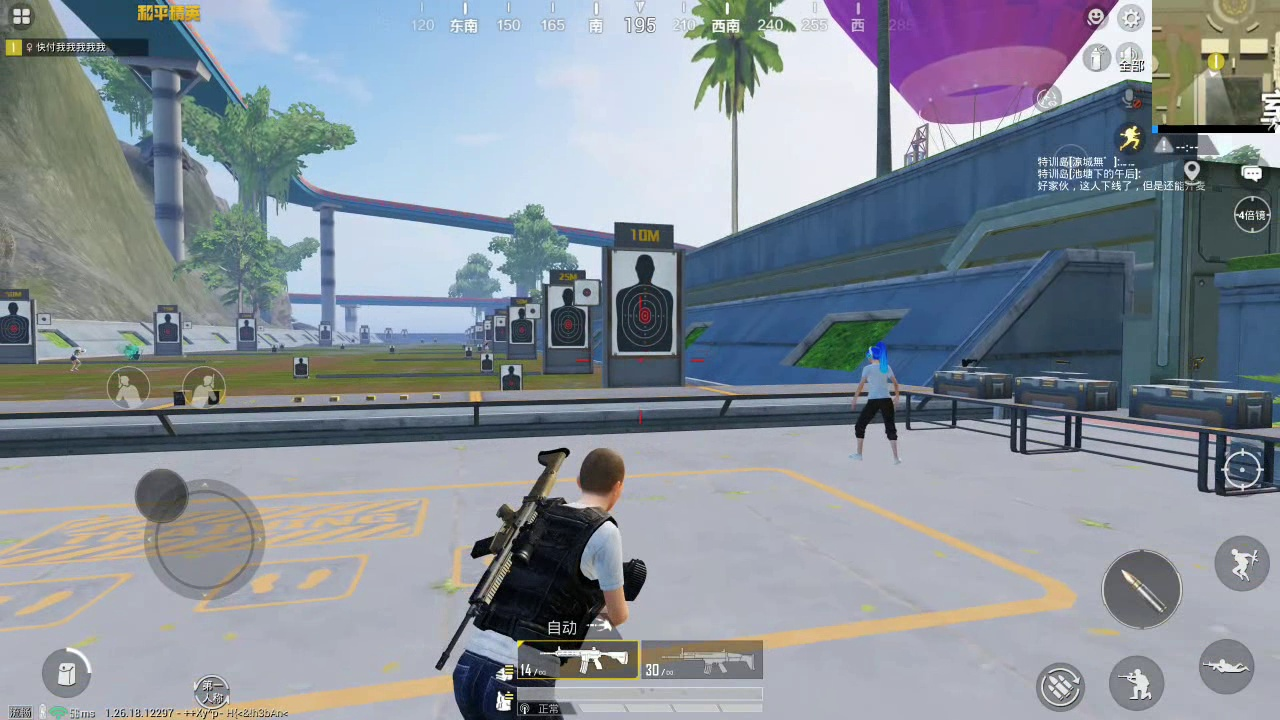enemy: (851, 343, 906, 462)
